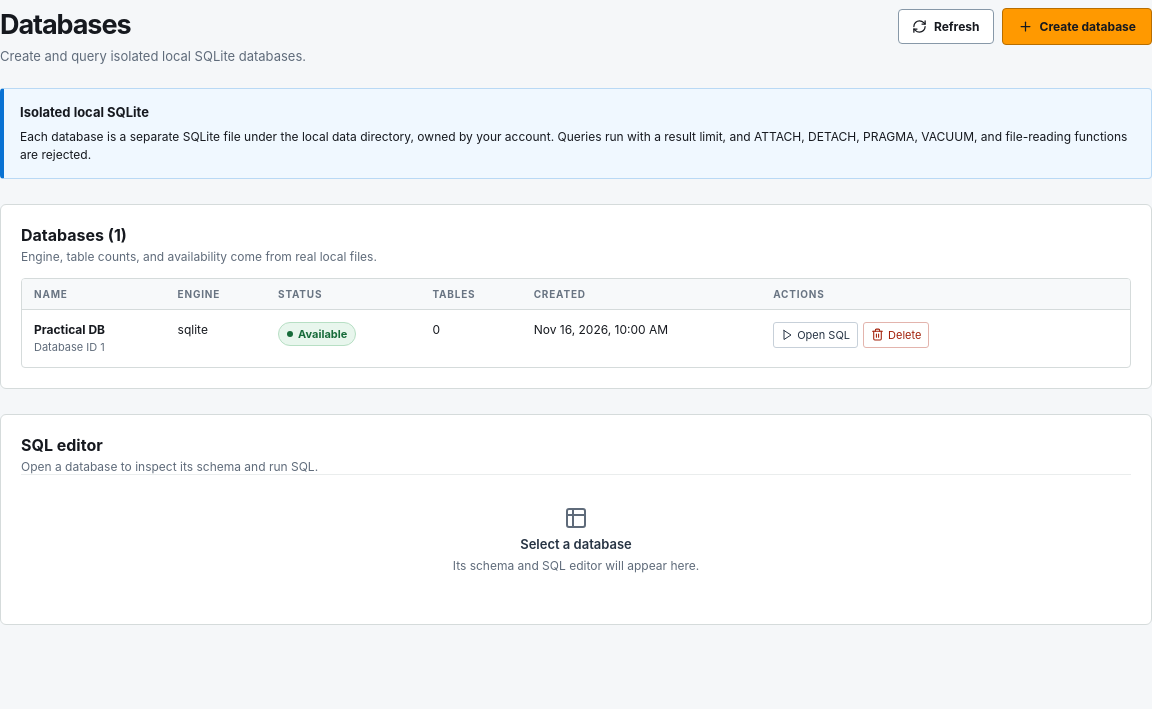
Test: databases page › shows an honest SQL error without inventing results
Expected: the text "Practical DB" is shown, x1=34 y1=322 x2=105 y2=336
Click the button "Open SQL" at (816, 334), box x1=773 y1=322 x2=858 y2=348
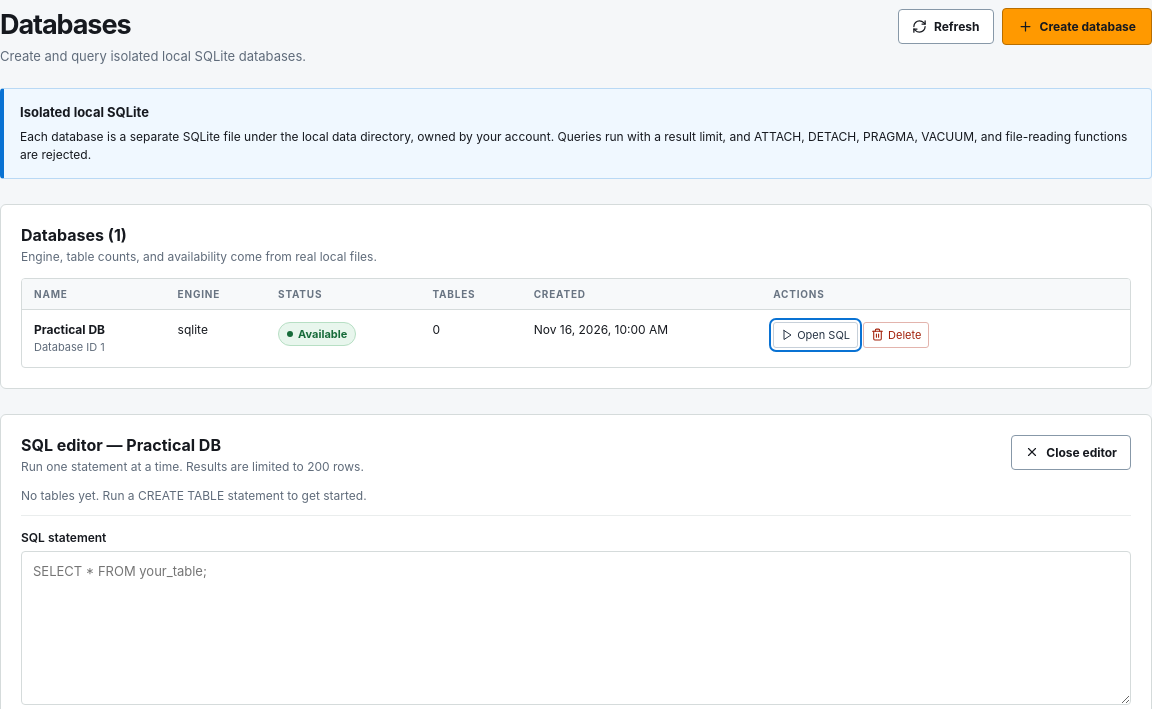
Expected: the text "No tables yet. Run a CREATE TABLE statement to get started." is shown, x1=21 y1=488 x2=367 y2=503
Type "SELECT * FROM missing_table" into the text box labelled "SQL statement" at (576, 628), box x1=21 y1=551 x2=1131 y2=705
(page scrolled)
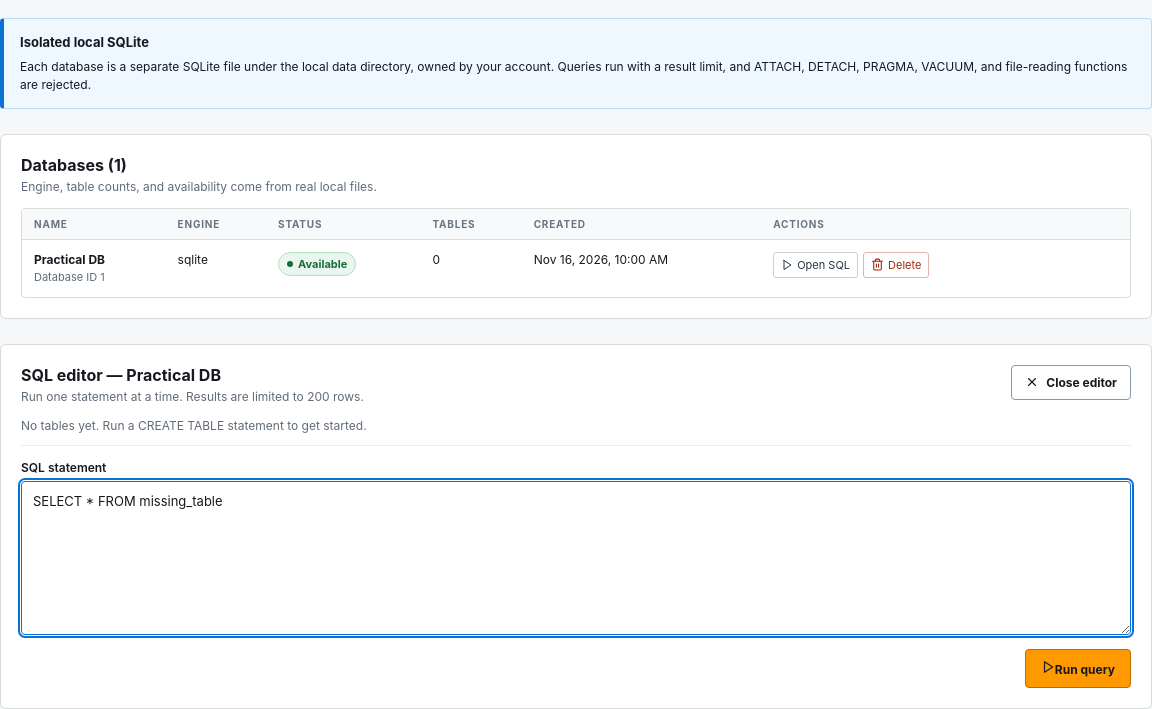
Click the button "Run query" at (1078, 668), box x1=1025 y1=649 x2=1131 y2=688
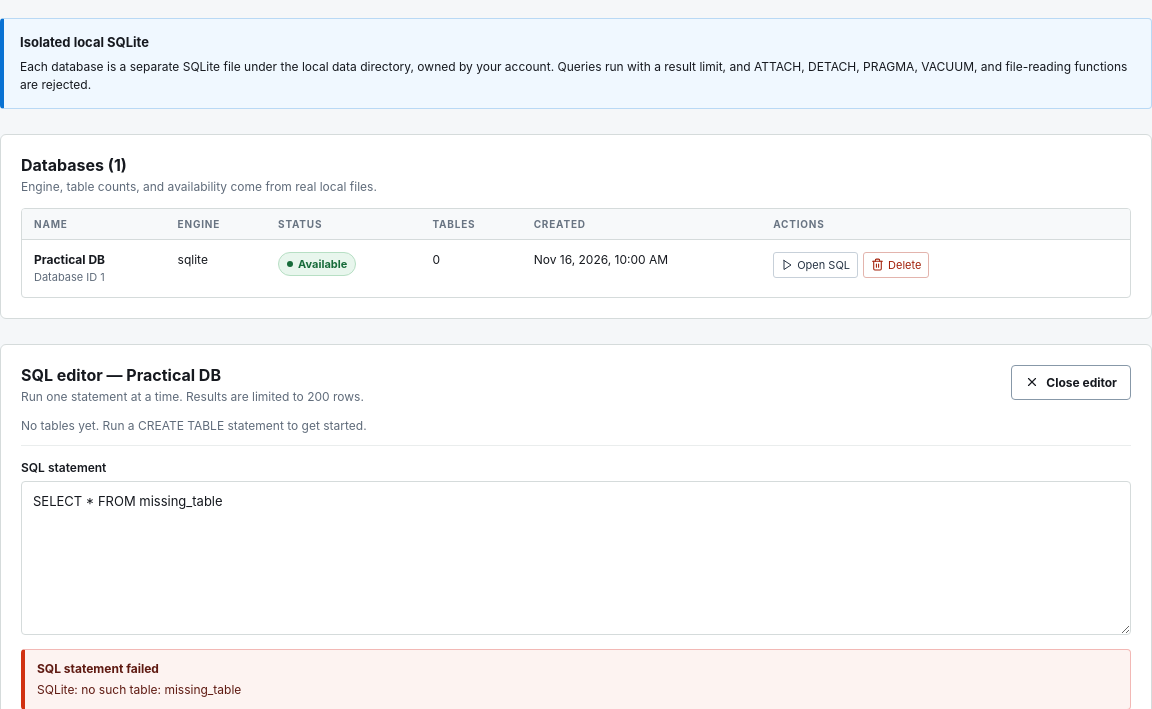
Expected: the message shows "no such table: missing_table", x1=37 y1=682 x2=241 y2=697
